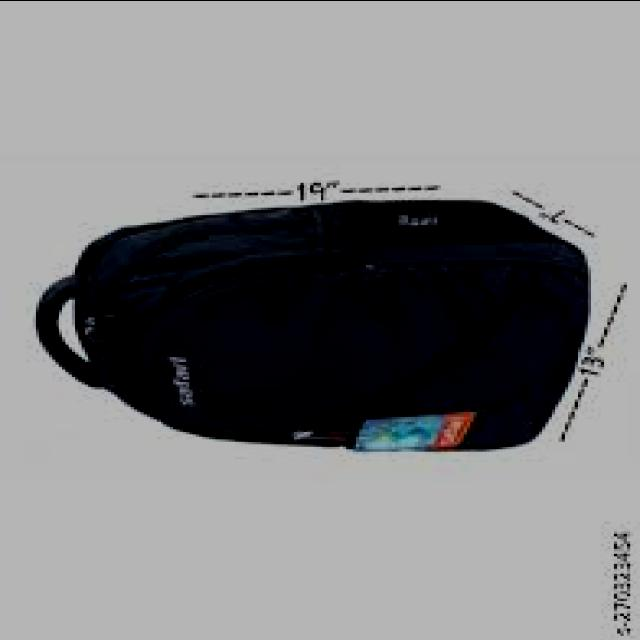backpack: (34, 198, 589, 454)
